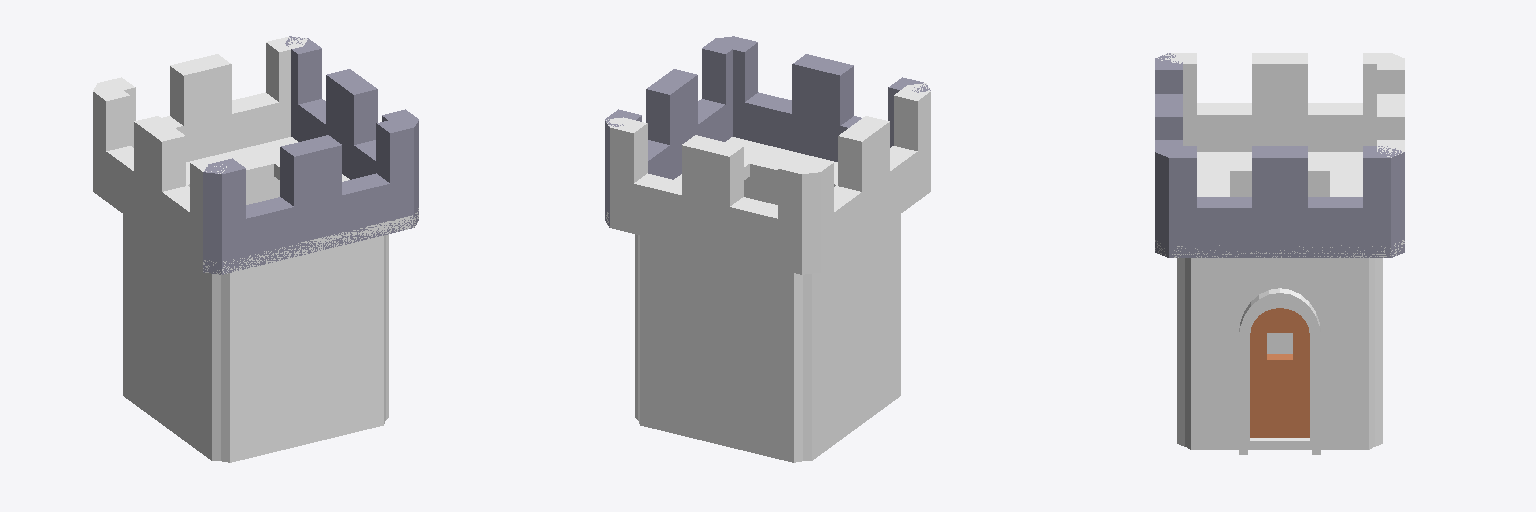
File: rook-small-door-white.obj
3 renders of one model, left to right at view 1: azimuth 30°, elevation 25°; view 2: azimuth 150°, elevation 25°; view 3: azimuth 270°, elevation 25°, orthographic.
Visible parts, largest first — view 1: wall_straight_5, battlement_corner_6, battlement_corner_8, wall_straight_3, floor_hole_11, wall_straight_4, wall_doorwayRound_2; view 2: battlement_corner_8, wall_straight_4, battlement_corner_6, wall_straight_3, floor_hole_11, wall_straight_5, wall_doorwayRound_2; view 3: wall_doorwayRound_2, battlement_corner_6, battlement_corner_8, door_round_12, floor_hole_11, wall_straight_4, wall_straight_5, wall_straight_3.
Part boxes in pixels (x1,y1,x2,y2): wall_straight_5: (221,235,385,462); battlement_corner_6: (203,36,418,274); battlement_corner_8: (93,37,307,270); wall_straight_3: (123,214,220,460); floor_hole_11: (94,137,418,274); wall_straight_4: (246,177,279,204); wall_doorwayRound_2: (386,234,388,419); battlement_corner_8: (606,83,930,274); wall_straight_4: (638,235,802,462); battlement_corner_6: (605,36,930,227); wall_straight_3: (803,214,900,460); floor_hole_11: (606,137,930,274); wall_straight_5: (744,177,777,204); wall_doorwayRound_2: (635,234,637,419); wall_doorwayRound_2: (1185,258,1374,454); battlement_corner_6: (1155,53,1404,257); battlement_corner_8: (1158,53,1404,157); door_round_12: (1248,303,1311,449); floor_hole_11: (1155,152,1404,257); wall_straight_4: (1375,258,1382,446); wall_straight_5: (1177,258,1184,446); wall_straight_3: (1230,184,1329,353).
Bounding box in the file's own units: 1.12 × 1.5 × 1.12.